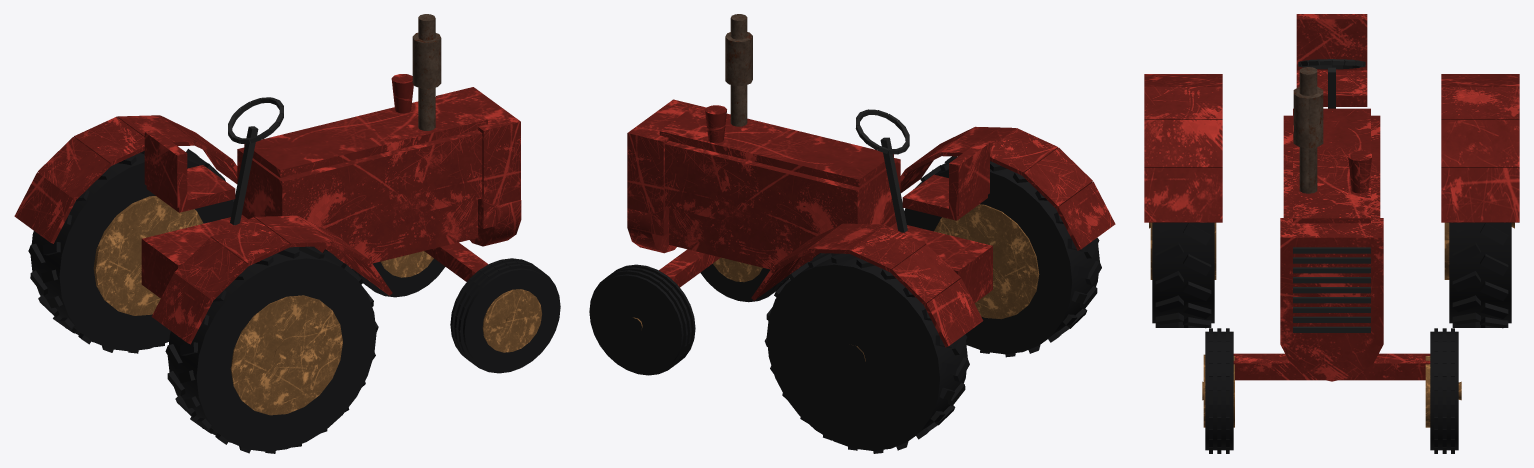
The model's file is tractor-red.glb.
3 renders of one model, left to right at view 1: azimuth 30°, elevation 25°; view 2: azimuth 150°, elevation 25°; view 3: azimuth 270°, elevation 25°, orthographic. The views are drawn at different scales.
Parts seen in each view (by area): view 1: tractor-red2; view 2: tractor-red2; view 3: tractor-red2.
Part boxes in pixels (box(x1,y1,x2,y2)): tractor-red2: box(14, 14, 560, 453); tractor-red2: box(589, 14, 1115, 453); tractor-red2: box(1144, 14, 1519, 453).
Bounding box in the file's own units: 1.07 × 0.8461 × 0.8.
5 materials, 3 textured.
